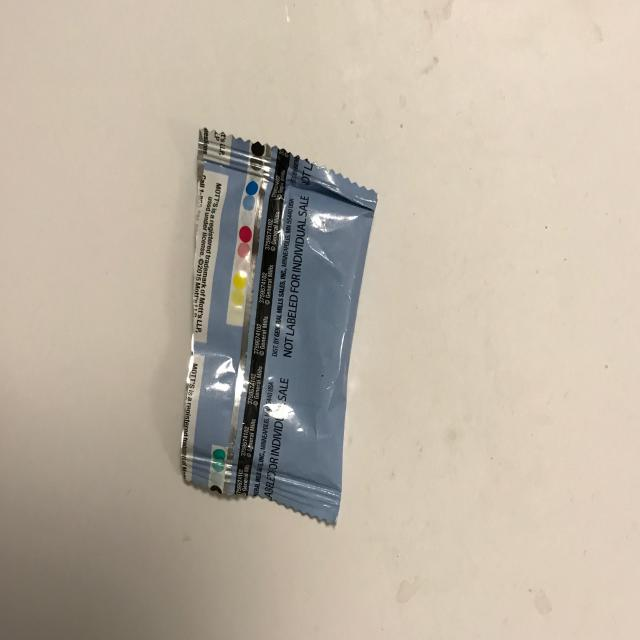Plastic: (171, 123, 391, 570)
